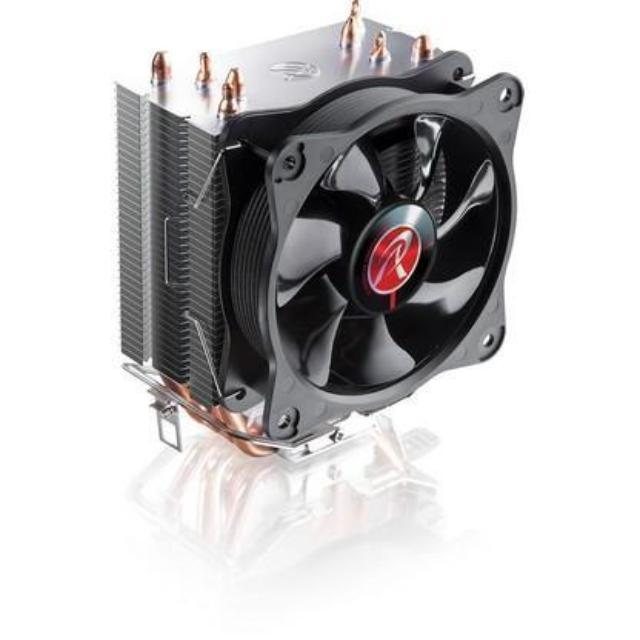CPU_Fan: (107, 0, 518, 468)
